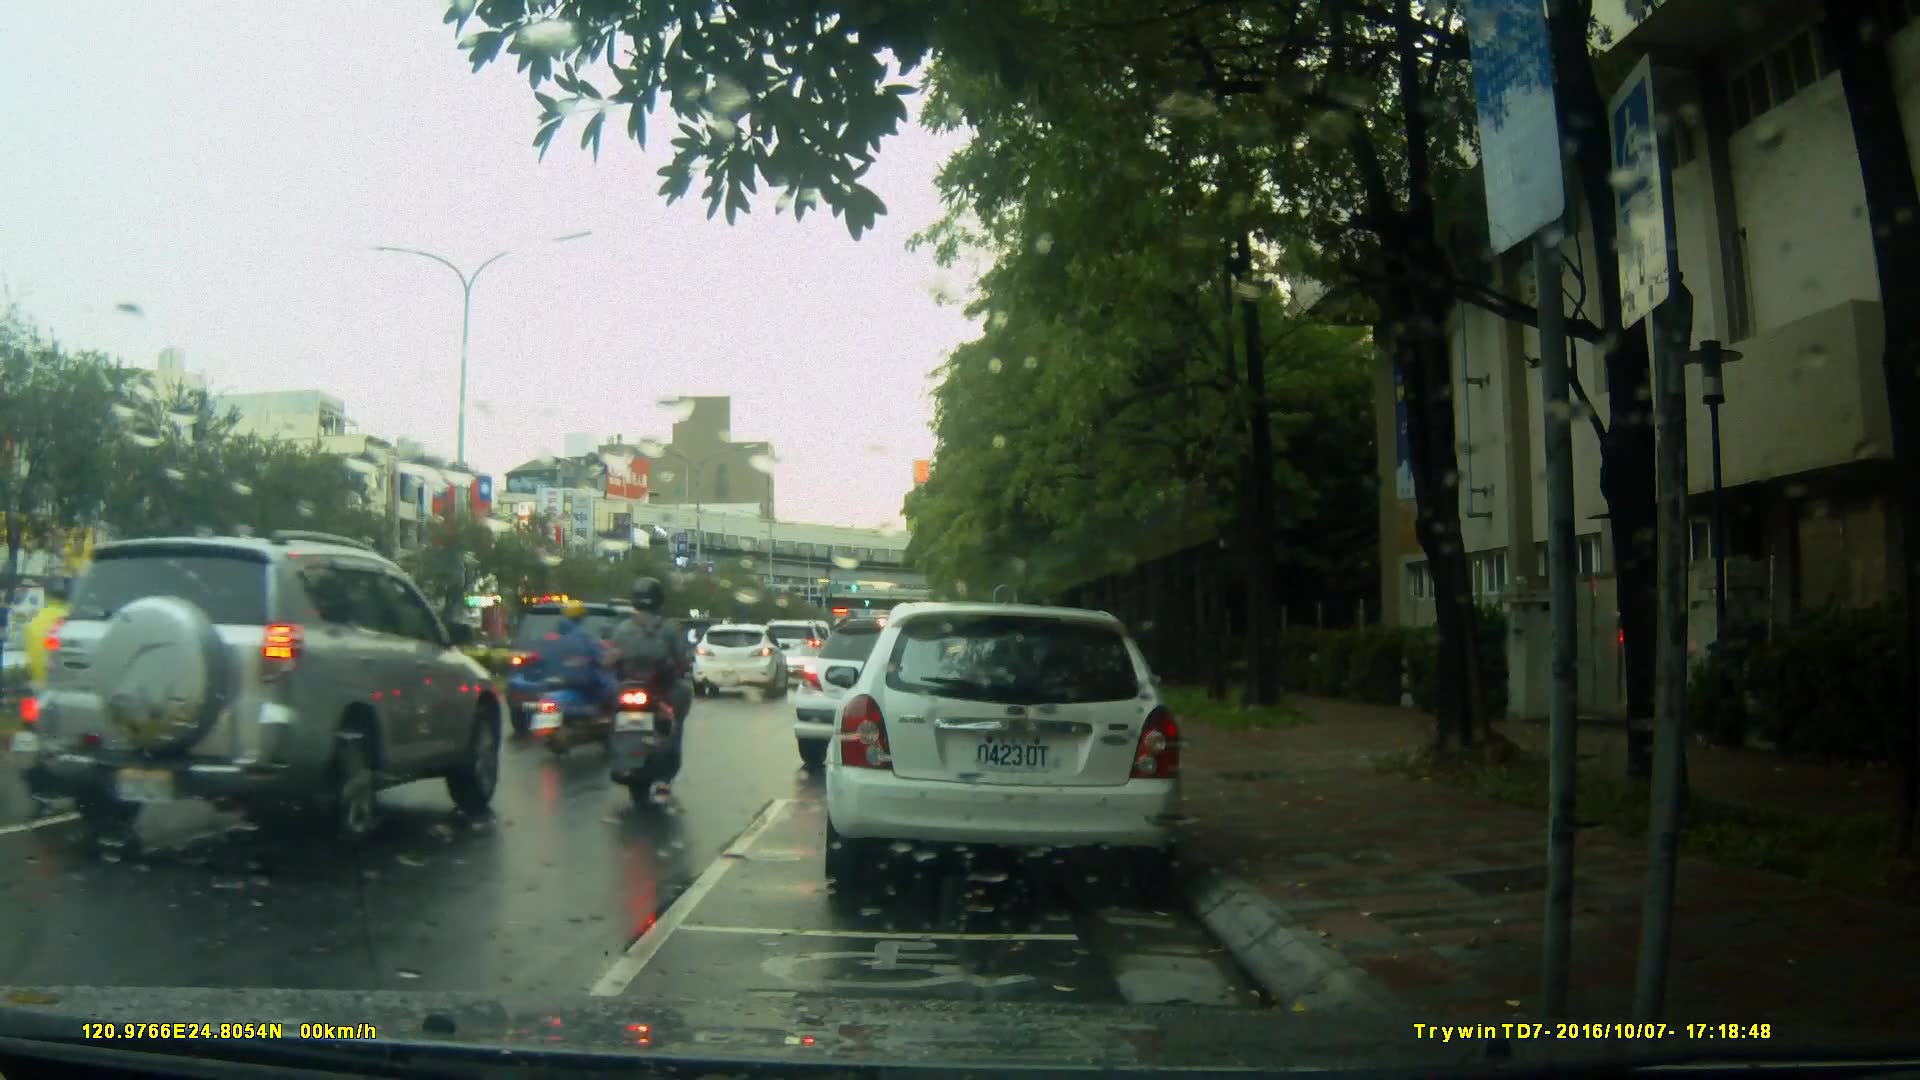rider: (606, 573, 696, 797), (541, 602, 606, 766)
vehicle: (46, 528, 511, 859), (820, 602, 1188, 898), (789, 614, 1051, 775), (498, 597, 698, 738), (692, 623, 791, 699)
